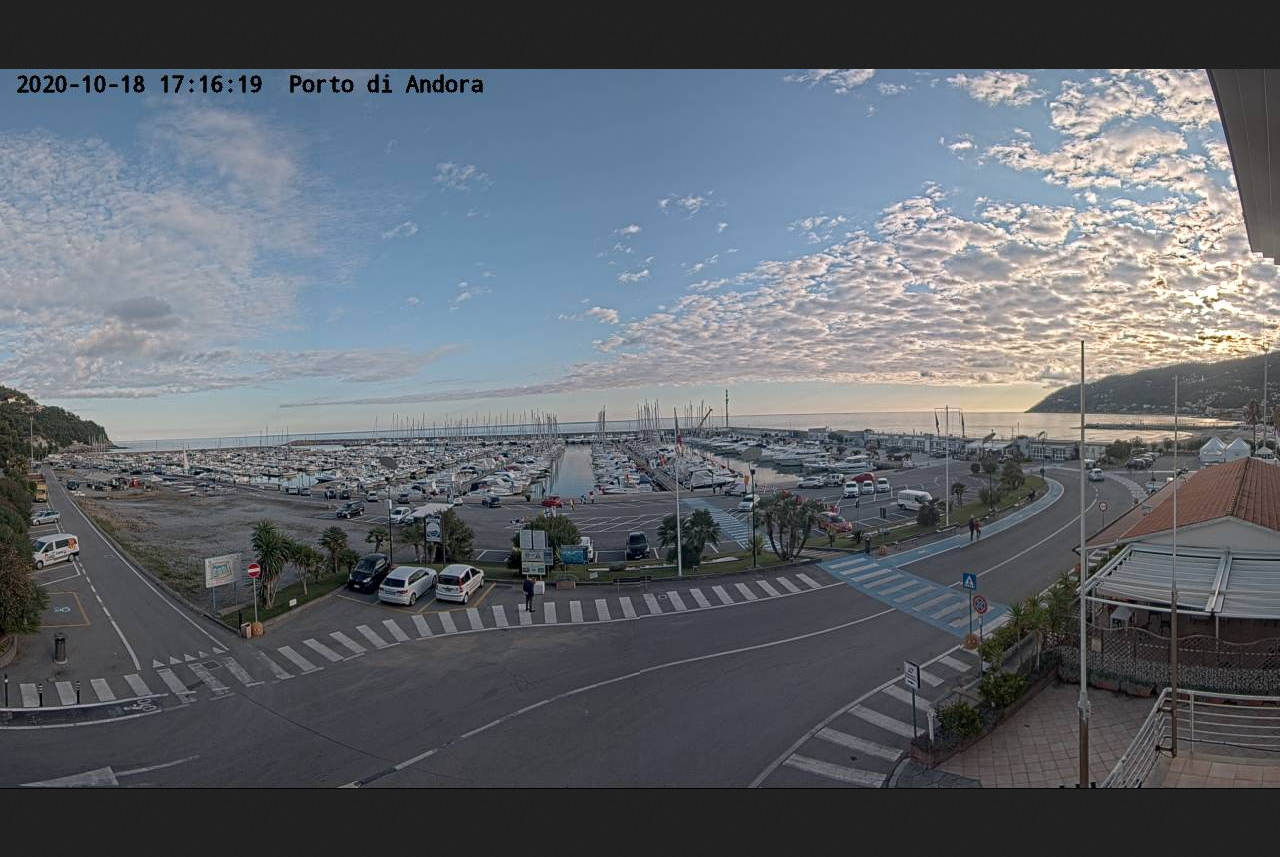no: (672, 413, 684, 460), (957, 410, 968, 440), (933, 409, 941, 436)
